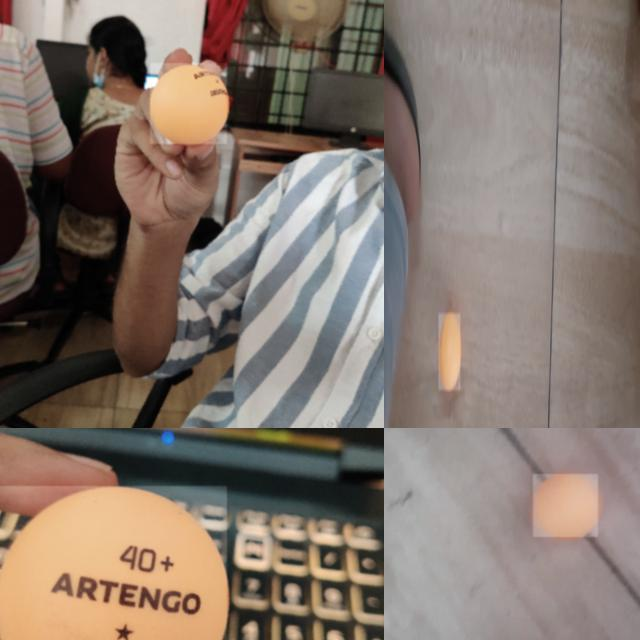ping-pong-ball: (0, 486, 228, 639), (150, 63, 228, 145), (533, 474, 599, 538), (438, 313, 461, 392)
